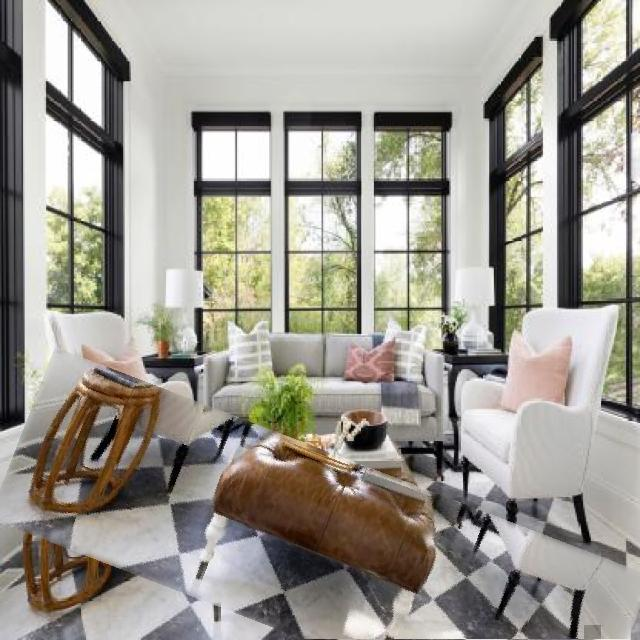floor: (0, 424, 396, 640), (403, 508, 567, 640), (585, 625, 601, 640)
